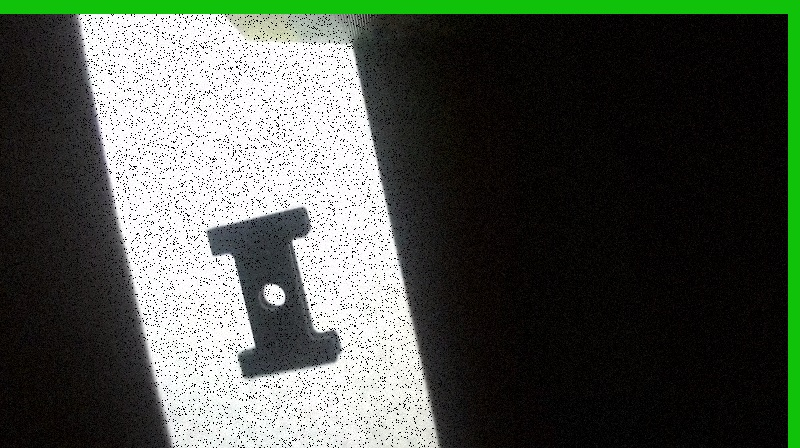O002: (201, 202, 342, 379)
